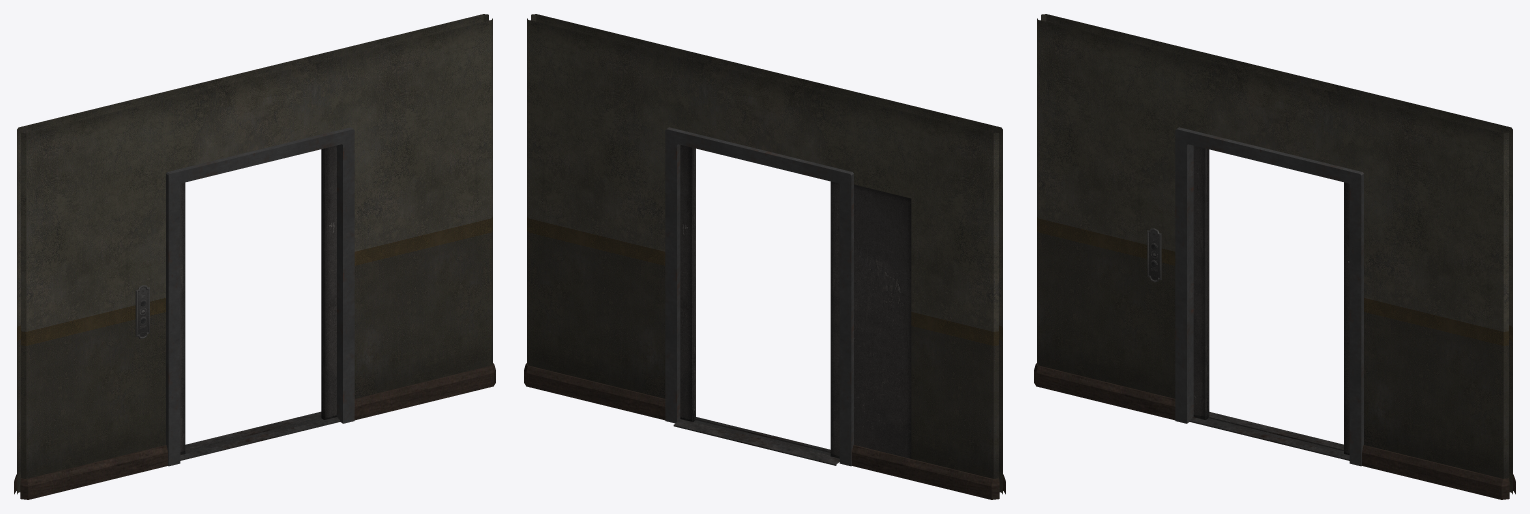
Rendered from elevator_doorway_1.fbx.
3 renders of one model, left to right at view 1: azimuth 30°, elevation 25°; view 2: azimuth 150°, elevation 25°; view 3: azimuth 330°, elevation 25°, orthographic.
Visible parts, largest first — view 1: elevator_doorway_1, elevator_door_1_a, elevator_door_1_b, elevator_call_button_1; view 2: elevator_doorway_1, elevator_door_1_b, elevator_door_1_a; view 3: elevator_doorway_1, elevator_door_1_b, elevator_door_1_a, elevator_call_button_1.
Boxes of the visible parts, x1,y1,x2,y2 form: elevator_doorway_1: [14, 14, 495, 499]; elevator_door_1_a: [321, 145, 336, 419]; elevator_door_1_b: [180, 182, 185, 454]; elevator_call_button_1: [135, 285, 149, 338]; elevator_doorway_1: [524, 14, 1005, 499]; elevator_door_1_b: [830, 181, 911, 458]; elevator_door_1_a: [680, 145, 695, 421]; elevator_doorway_1: [1034, 14, 1515, 499]; elevator_door_1_b: [1193, 145, 1209, 419]; elevator_door_1_a: [1344, 182, 1349, 454]; elevator_call_button_1: [1147, 228, 1161, 282].
Bounding box in the file's own units: 4.09 × 0.25 × 3.
